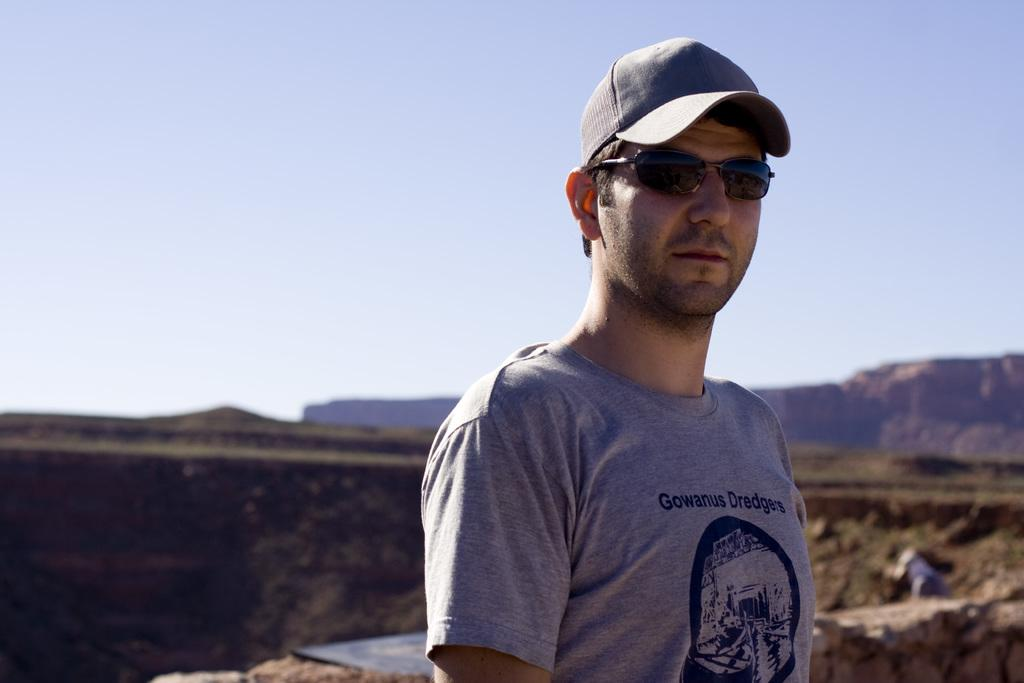Hat: (578, 33, 789, 164)
